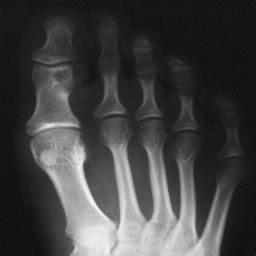cancer: (47, 63, 91, 96)
